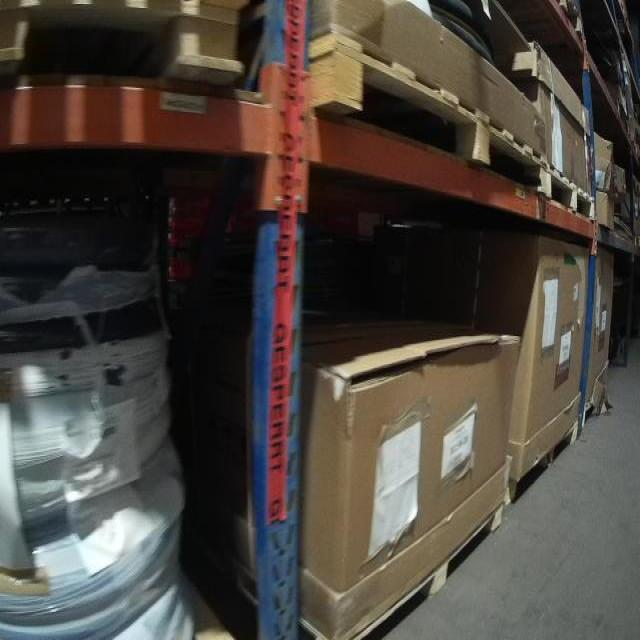pallet: (223, 485, 511, 639), (300, 29, 545, 198), (4, 5, 261, 101), (511, 411, 582, 501), (542, 165, 599, 227)
